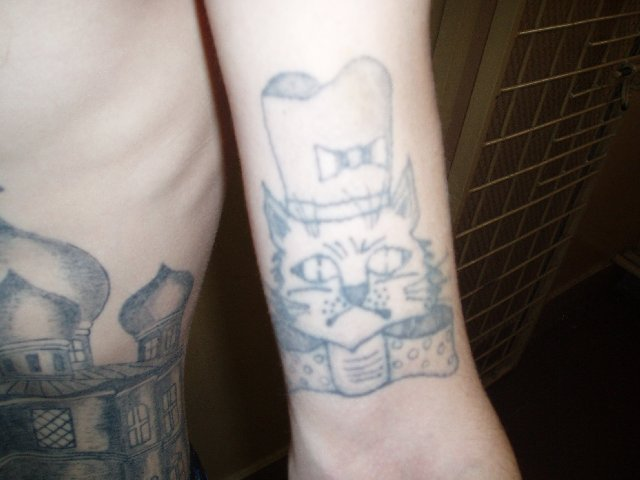tatu8_kot: (225, 46, 467, 389)
